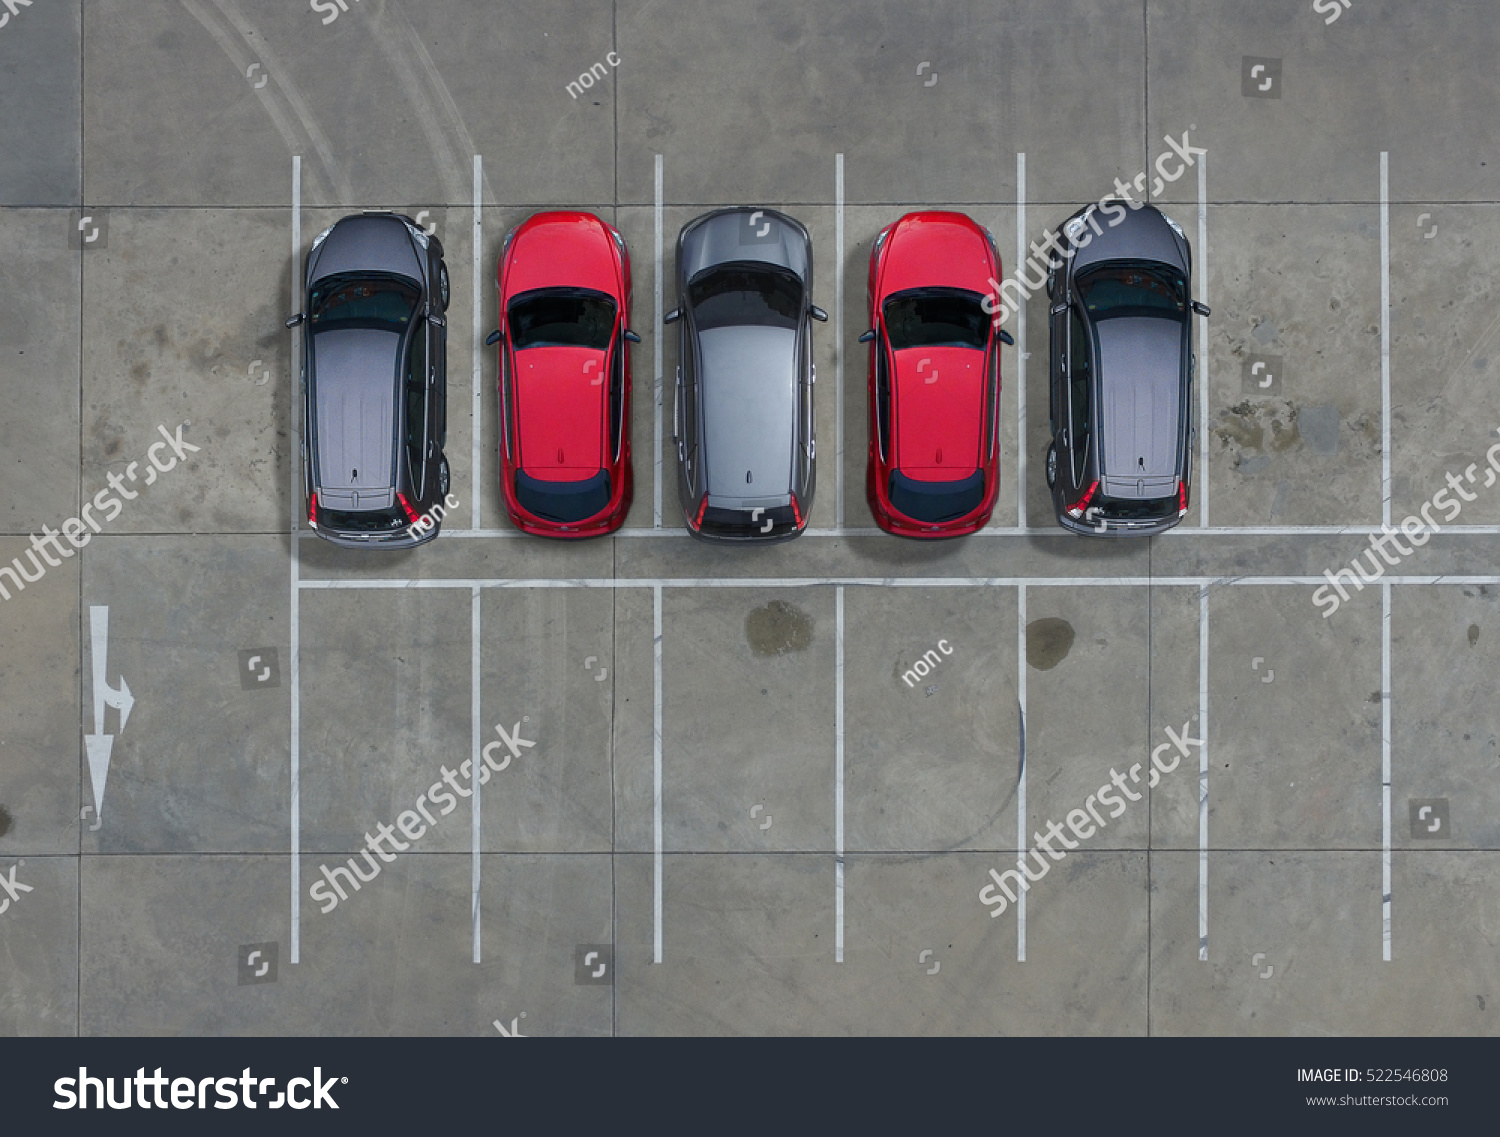Car: (670, 198, 826, 552), (487, 201, 643, 549), (857, 201, 1008, 543)
LaneMark: (74, 606, 136, 832), (296, 578, 1500, 586), (1192, 579, 1213, 967), (831, 579, 850, 964), (650, 150, 669, 531), (469, 152, 487, 531), (831, 149, 848, 535), (648, 583, 665, 964), (471, 583, 486, 966), (1377, 147, 1393, 527), (287, 571, 301, 967), (1382, 578, 1394, 969), (1016, 145, 1028, 535), (1016, 584, 1028, 969), (1192, 526, 1500, 537), (1199, 145, 1207, 542)
